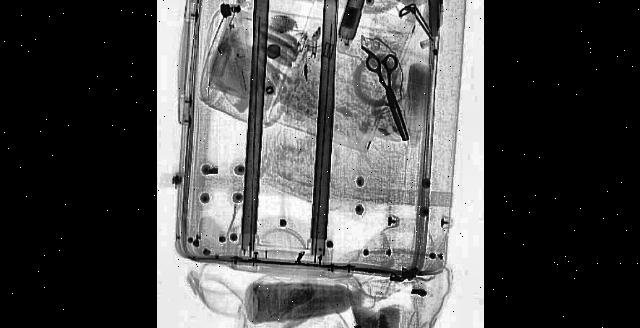Scissors: (364, 28, 418, 162)
